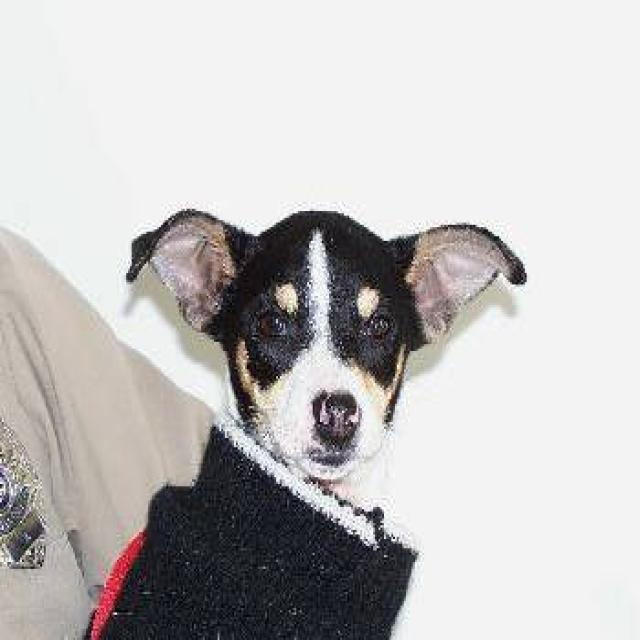dog: (82, 204, 527, 638)
